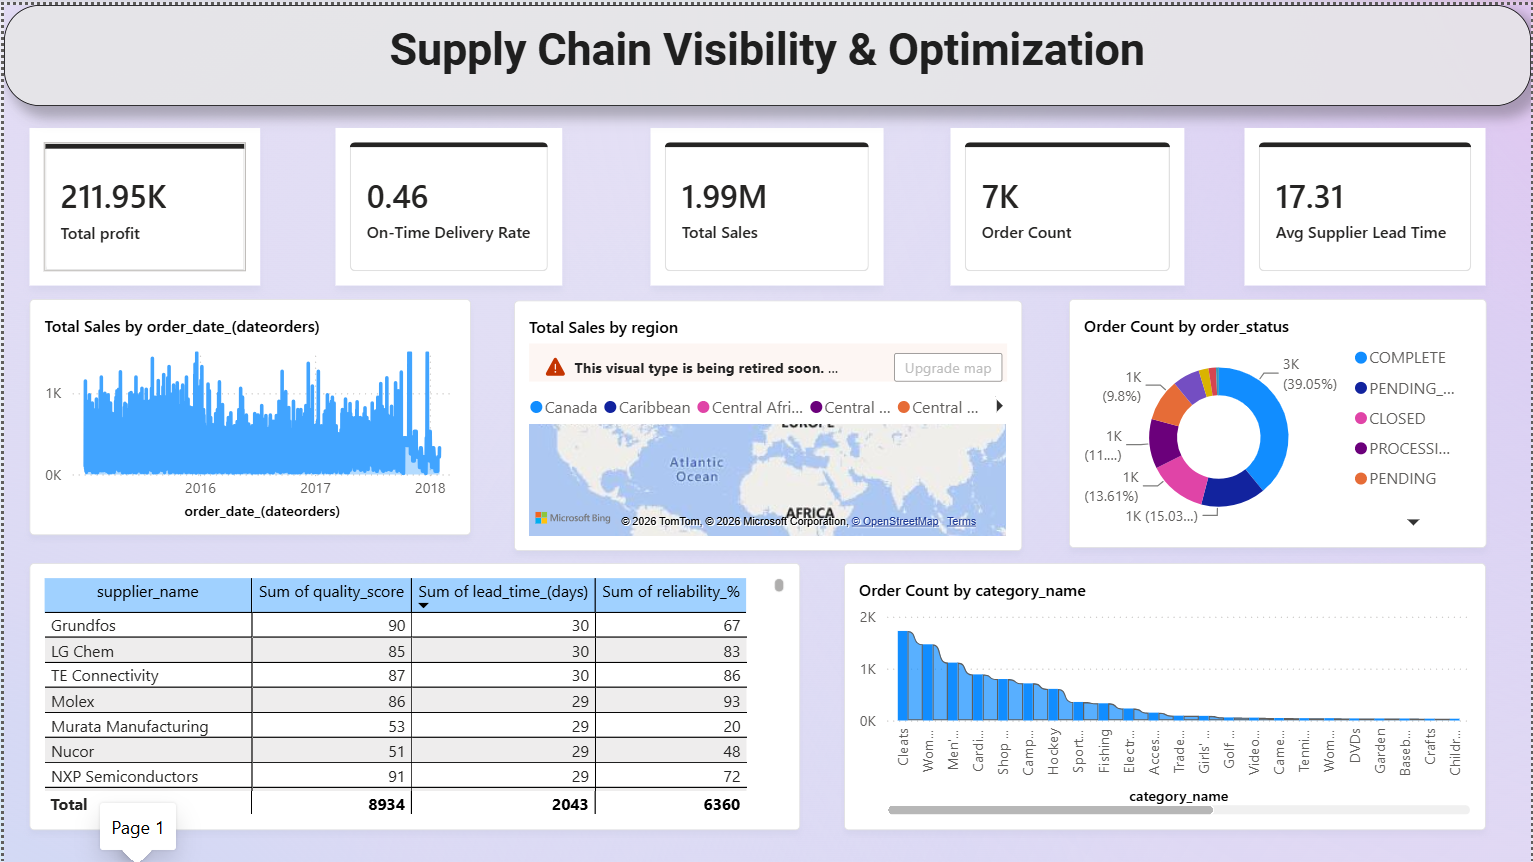

This screenshot's page, from the dashboard's own definition file:
{"tool":"powerbi","page":{"name":"Page 1","canvas":[1280,720],"ordinal":0},"visuals":[{"type":"cardVisual","fields":{"Data":["Fact_table.Total profit"]},"box":[21.9,103.5,193.9,132.7],"z":0},{"type":"cardVisual","fields":{"Data":["Fact_table.Total Sales"]},"box":[542.3,103.5,195.4,132.7],"z":1000},{"type":"textbox","box":[0,0,1280,84.6],"z":2000},{"type":"cardVisual","fields":{"Data":["Fact_table.Order Count"]},"box":[793.1,103.5,196.8,132.7],"z":3000},{"type":"cardVisual","fields":{"Data":["Fact_table.Avg Supplier Lead Time"]},"box":[1039.5,103.5,202.6,132.7],"z":4000},{"type":"cardVisual","fields":{"Data":["Fact_table.On-Time Delivery Rate"]},"box":[278.5,103.5,191,132.7],"z":5000},{"type":"donutChart","fields":{"Y":["Fact_table.Order Count"],"Category":["Fact_table.order_status"]},"box":[892.2,246.4,349.9,208.5],"z":6000},{"type":"ribbonChart","fields":{"Y":["Fact_table.Order Count"],"Category":["Fact_table.category_name"]},"box":[704,468,538,224],"z":7000},{"type":"areaChart","fields":{"Y":["Fact_table.Total Sales"],"Category":["Fact_table.order_date_(dateorders)"]},"box":[22,246,370,198],"z":8000},{"type":"pivotTable","fields":{"Rows":["Dim_supplier.supplier_name"],"Values":["Sum(Dim_supplier.quality_score)","Sum(Dim_supplier.lead_time_(days))","Sum(Dim_supplier.reliability_%)"]},"box":[22,468,646,224],"z":9000},{"type":"filledMap","fields":{"Series":["Fact_table.region"]},"box":[427.1,247.1,425.7,210],"z":10000}]}

Visuals, with their boxes in screenshot pixels (x1, y1, x2, y2), scaled from the page's 1280x720 canvas onto the 1533x862 screenshot:
cardVisual - Fact_table.Total profit: bbox=[26, 124, 258, 283]
cardVisual - Fact_table.Total Sales: bbox=[649, 124, 884, 283]
textbox: bbox=[0, 0, 1532, 101]
cardVisual - Fact_table.Order Count: bbox=[950, 124, 1186, 283]
cardVisual - Fact_table.Avg Supplier Lead Time: bbox=[1245, 124, 1488, 283]
cardVisual - Fact_table.On-Time Delivery Rate: bbox=[334, 124, 562, 283]
donutChart - Fact_table.Order Count x Fact_table.order_status: bbox=[1069, 295, 1488, 545]
ribbonChart - Fact_table.Order Count x Fact_table.category_name: bbox=[843, 560, 1487, 828]
areaChart - Fact_table.Total Sales x Fact_table.order_date_(dateorders): bbox=[26, 295, 469, 532]
pivotTable - Dim_supplier.supplier_name x Sum(Dim_supplier.quality_score): bbox=[26, 560, 800, 828]
filledMap - Fact_table.region: bbox=[512, 296, 1021, 547]
